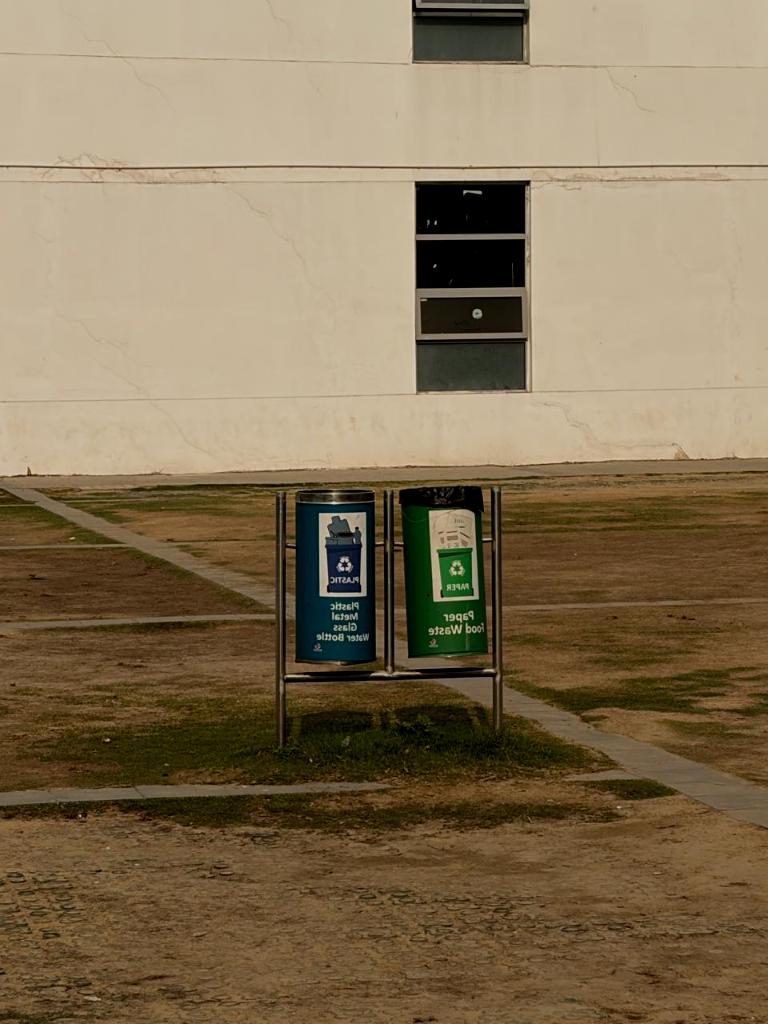dustbin: (273, 480, 510, 726)
